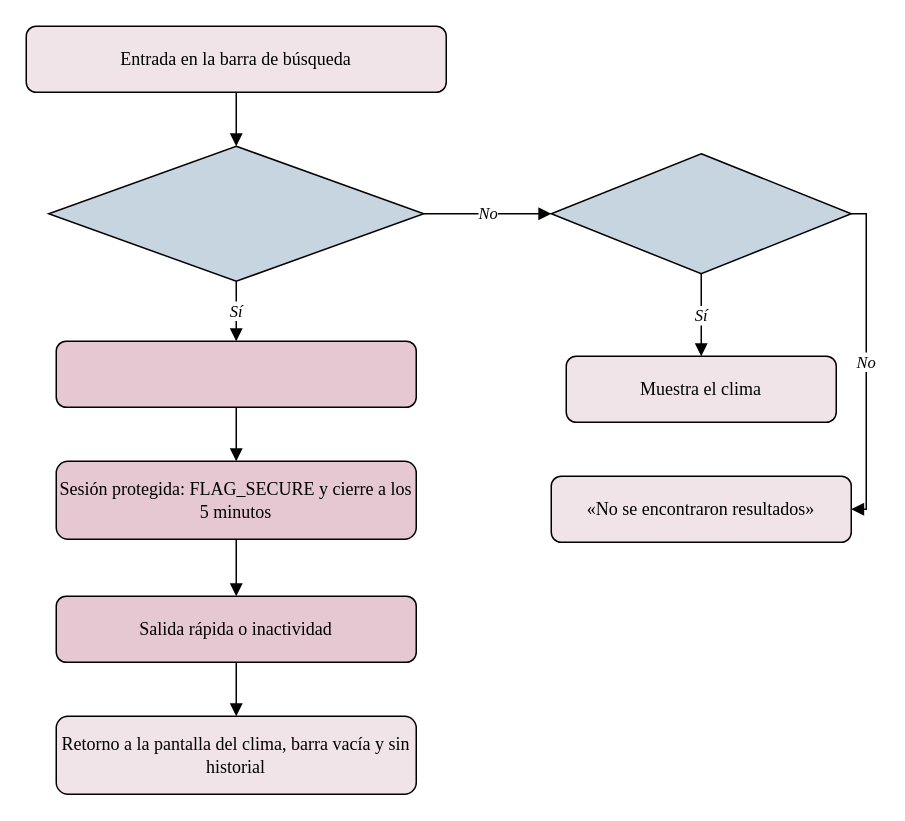
Image size: 905x821. Some labels were removed from this diagram. The centre of each missing label's shape, as x and y in pixels:
Se abre el doble fondo: the point at 235,373
¿Coincide con el hash del código secreto?: the point at 235,213
¿Corresponde a una ciudad?: the point at 700,213
